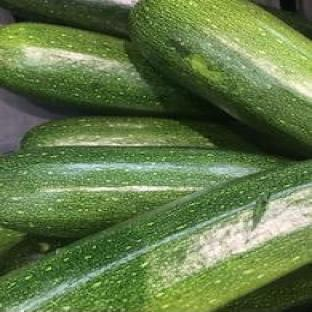Zucchini: (0, 162, 311, 311), (0, 147, 284, 236), (0, 23, 223, 118), (21, 117, 255, 152), (221, 264, 311, 311), (0, 237, 71, 274), (264, 8, 311, 38), (0, 227, 23, 262)
